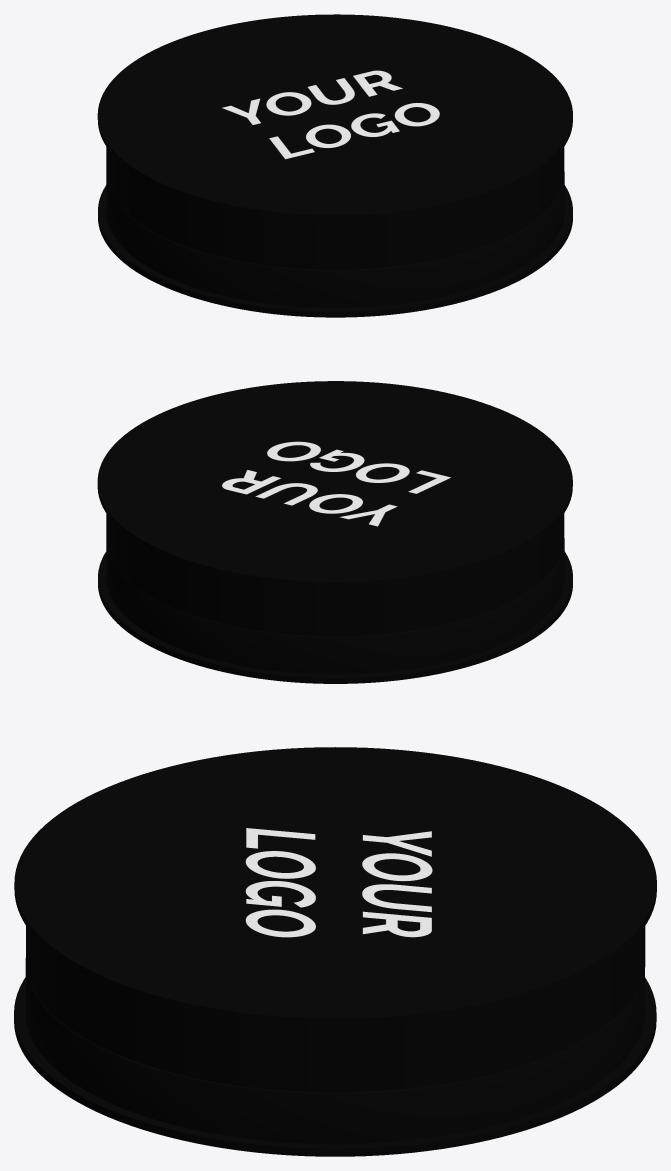
File: Bridal Base 2.gltf
3 views of the same model, one above another, from view 1: azimuth 30°, elevation 25°; view 2: azimuth 150°, elevation 25°; view 3: azimuth 270°, elevation 25° (orthographic). The views are drawn at different scales.
Parts seen in each view (by area): view 1: Cylinder.009, Cylinder.008, CREAM PUFF-01; view 2: Cylinder.009, Cylinder.008, CREAM PUFF-01; view 3: Cylinder.009, Cylinder.008, CREAM PUFF-01.
Boxes of the visible parts, x1,y1,x2,y2 form: Cylinder.009: (97,14,572,269); Cylinder.008: (98,172,572,317); CREAM PUFF-01: (222,70,439,159); Cylinder.009: (97,381,572,636); Cylinder.008: (98,538,572,683); CREAM PUFF-01: (222,441,450,526); Cylinder.009: (14,747,656,1092); Cylinder.008: (14,958,656,1156); CREAM PUFF-01: (245,828,432,937).
Size of the model in its own units: 0.847 by 0.2014 by 0.8474.
Materials: 4 (3 with a texture image).
